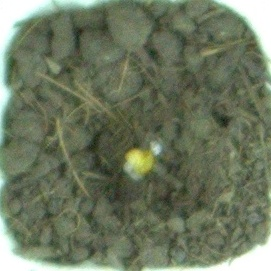chilli seed: (119, 146, 156, 182)
